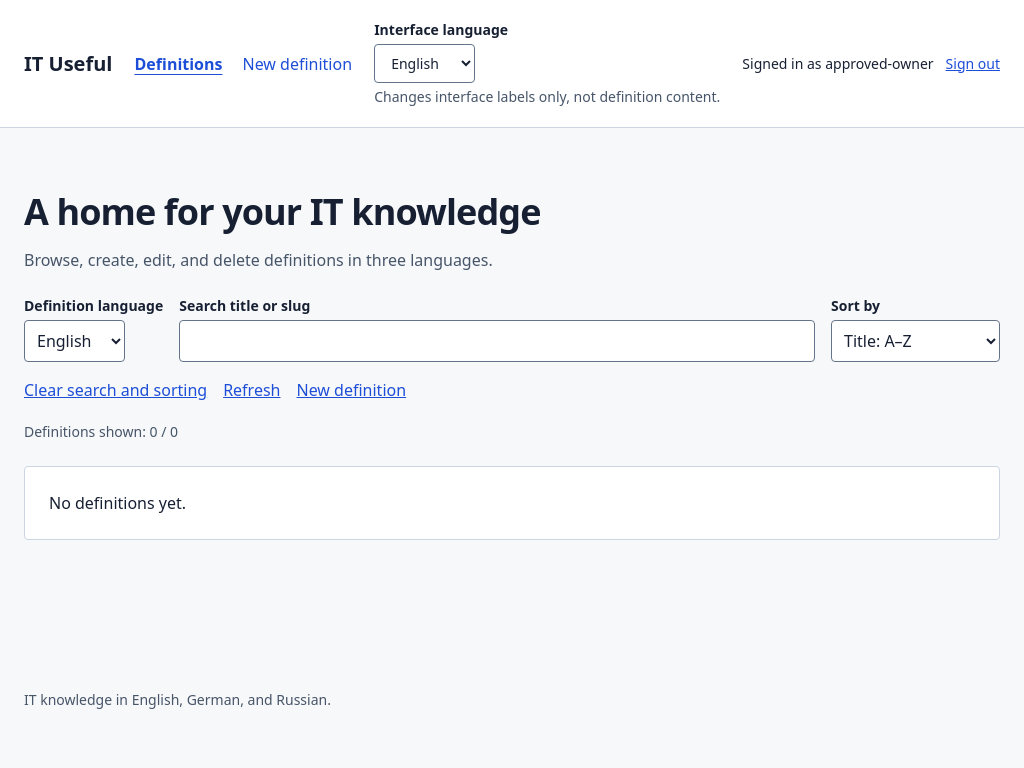
Test: clears private UI and reports expiry when an authenticated request gets 401
Expected: the heading "A home for your IT knowledge" is shown, [24,187,541,236]
Click the button "Refresh": (252, 390) [223,378,280,402]
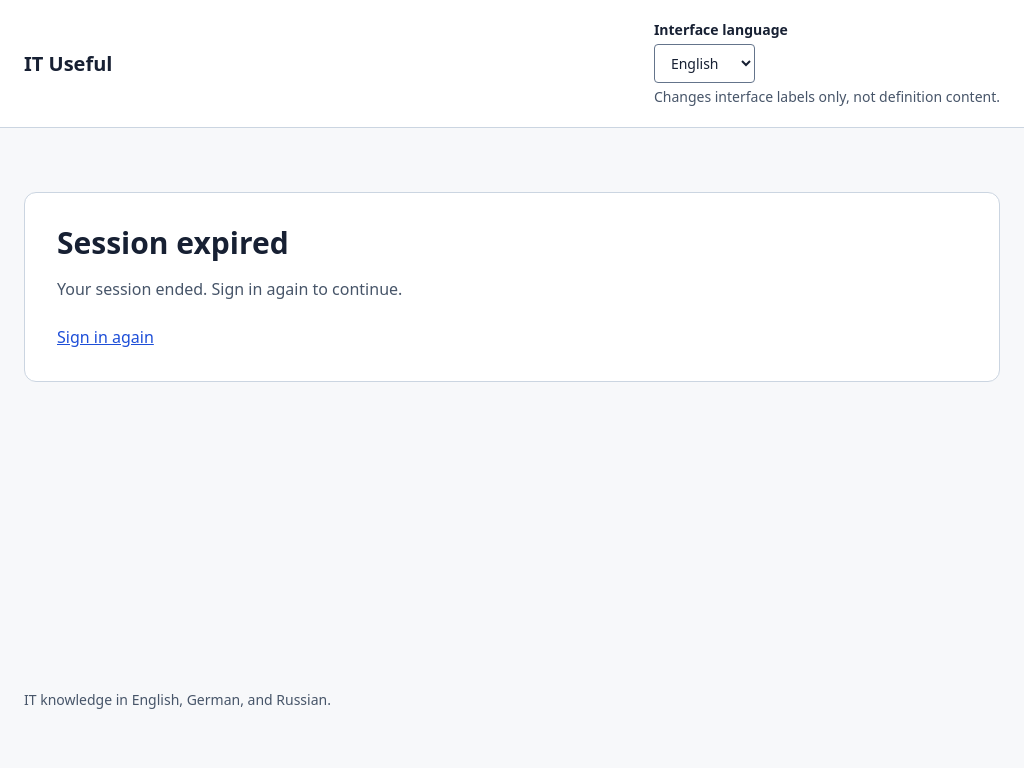
Result: the heading "Session expired" is shown at [57,222,289,263]
Result: the navigation bar is gone
Result: the link "Sign in again" is shown at [57,325,154,349]
